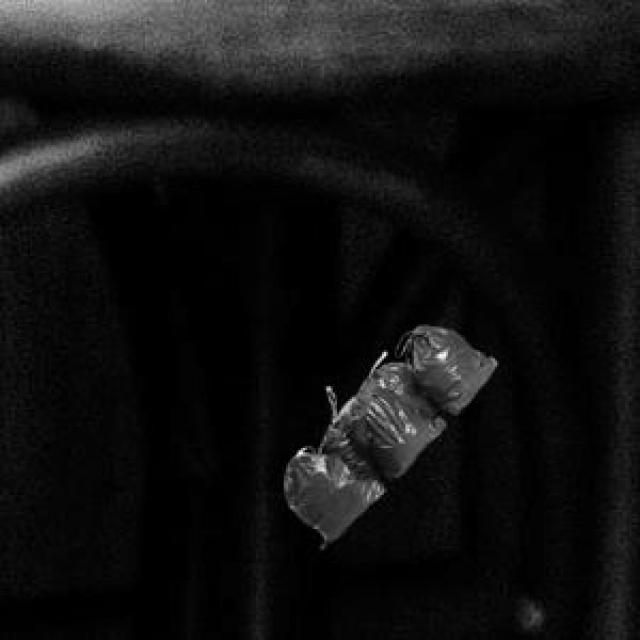miscellaneous trash: (282, 322, 493, 544)
